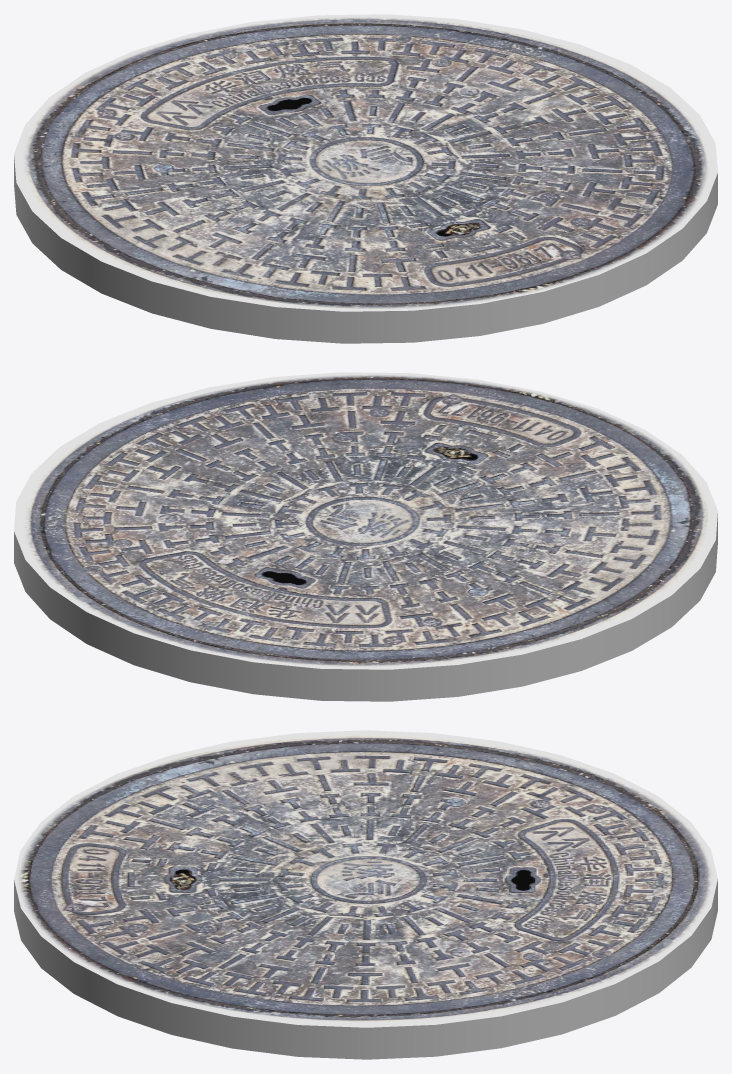
3 views of the same model, one above another, from view 1: azimuth 30°, elevation 25°; view 2: azimuth 150°, elevation 25°; view 3: azimuth 270°, elevation 25° (orthographic).
Visible parts, largest first — view 1: 553000_1; view 2: 553000_1; view 3: 553000_1.
Part boxes in pixels (x1,y1,x2,y2): 553000_1: (14,14,717,343); 553000_1: (14,372,717,701); 553000_1: (14,730,717,1059).
Size of the model in its own units: 1 by 0.05 by 1.
Materials: 2 (1 with a texture image).
